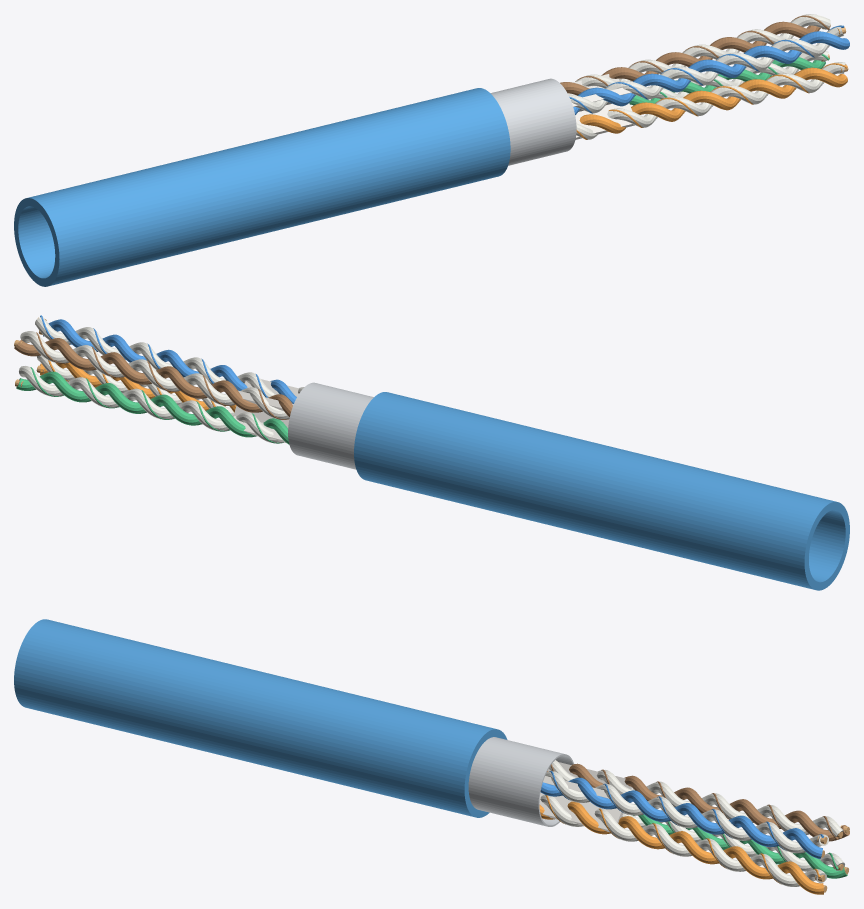
File: cat6a.glb
3 renders of one model, top to bottom at view 1: azimuth 30°, elevation 25°; view 2: azimuth 150°, elevation 25°; view 3: azimuth 330°, elevation 25°, orthographic.
Parts seen in each view (by area): view 1: 01_Jaket_Luar_PVC_Berongga, 02_Foil_Screen_Aluminium, 05_Pasangan_1_biru_Berwarna, 05_Pasangan_2_oren_Berwarna, 05_Pasangan_1_biru_Putih_Berjalur, 05_Pasangan_2_oren_Putih_Berjalur, 05_Pasangan_4_coklat_Berwarna, 05_Pasangan_4_coklat_Putih_Berjalur, 05_Pasangan_3_hijau_Berwarna, 05_Pasangan_3_hijau_Putih_Berjalur, 04_Pemisah_Teras_2; view 2: 01_Jaket_Luar_PVC_Berongga, 02_Foil_Screen_Aluminium, 05_Pasangan_4_coklat_Berwarna, 05_Pasangan_3_hijau_Berwarna, 05_Pasangan_4_coklat_Putih_Berjalur, 05_Pasangan_3_hijau_Putih_Berjalur, 05_Pasangan_1_biru_Berwarna, 05_Pasangan_1_biru_Putih_Berjalur, 05_Pasangan_2_oren_Putih_Berjalur, 05_Pasangan_2_oren_Berwarna; view 3: 01_Jaket_Luar_PVC_Berongga, 02_Foil_Screen_Aluminium, 05_Pasangan_1_biru_Berwarna, 05_Pasangan_2_oren_Berwarna, 05_Pasangan_2_oren_Putih_Berjalur, 05_Pasangan_1_biru_Putih_Berjalur, 05_Pasangan_4_coklat_Berwarna, 05_Pasangan_4_coklat_Putih_Berjalur, 05_Pasangan_3_hijau_Berwarna, 05_Pasangan_3_hijau_Putih_Berjalur, 04_Pemisah_Teras_2.
Part boxes in pixels (box(x1,y1,x2,y2)): 01_Jaket_Luar_PVC_Berongga: box(14, 88, 510, 286); 02_Foil_Screen_Aluminium: box(490, 78, 576, 165); 05_Pasangan_1_biru_Berwarna: box(573, 31, 849, 114); 05_Pasangan_2_oren_Berwarna: box(579, 67, 847, 133); 05_Pasangan_1_biru_Putih_Berjalur: box(568, 25, 843, 113); 05_Pasangan_2_oren_Putih_Berjalur: box(576, 62, 845, 139); 05_Pasangan_4_coklat_Berwarna: box(560, 21, 820, 95); 05_Pasangan_4_coklat_Putih_Berjalur: box(575, 14, 830, 88); 05_Pasangan_3_hijau_Berwarna: box(629, 57, 825, 105); 05_Pasangan_3_hijau_Putih_Berjalur: box(630, 51, 828, 106); 04_Pemisah_Teras_2: box(575, 103, 634, 139); 01_Jaket_Luar_PVC_Berongga: box(354, 392, 849, 590); 02_Foil_Screen_Aluminium: box(288, 382, 373, 469); 05_Pasangan_4_coklat_Berwarna: box(14, 338, 292, 416); 05_Pasangan_3_hijau_Berwarna: box(16, 371, 289, 444); 05_Pasangan_4_coklat_Putih_Berjalur: box(20, 331, 289, 419); 05_Pasangan_3_hijau_Putih_Berjalur: box(19, 366, 283, 443); 05_Pasangan_1_biru_Berwarna: box(43, 319, 296, 403); 05_Pasangan_1_biru_Putih_Berjalur: box(35, 317, 304, 397); 05_Pasangan_2_oren_Putih_Berjalur: box(37, 355, 234, 416); 05_Pasangan_2_oren_Berwarna: box(40, 362, 236, 412); 01_Jaket_Luar_PVC_Berongga: box(14, 619, 507, 817); 02_Foil_Screen_Aluminium: box(468, 737, 573, 826); 05_Pasangan_1_biru_Berwarna: box(540, 777, 822, 858); 05_Pasangan_2_oren_Berwarna: box(539, 801, 823, 894); 05_Pasangan_2_oren_Putih_Berjalur: box(540, 794, 826, 886); 05_Pasangan_1_biru_Putih_Berjalur: box(545, 771, 828, 853); 05_Pasangan_4_coklat_Berwarna: box(547, 763, 849, 841); 05_Pasangan_4_coklat_Putih_Berjalur: box(548, 760, 843, 836); 05_Pasangan_3_hijau_Berwarna: box(633, 804, 847, 878); 05_Pasangan_3_hijau_Putih_Berjalur: box(621, 813, 844, 871); 04_Pemisah_Teras_2: box(539, 792, 623, 832).
Size of the model in its own units: 18.27 by 1.8 by 1.8.
